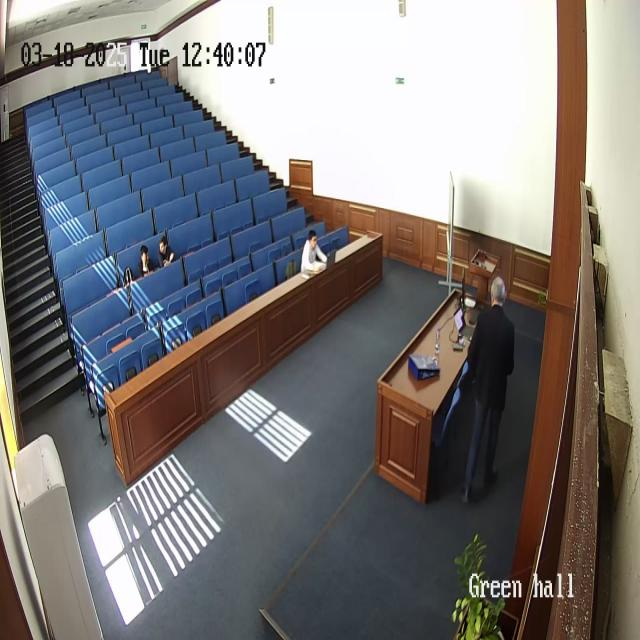person: (461, 276, 515, 503), (300, 228, 328, 274), (135, 244, 155, 279), (157, 234, 177, 268)
